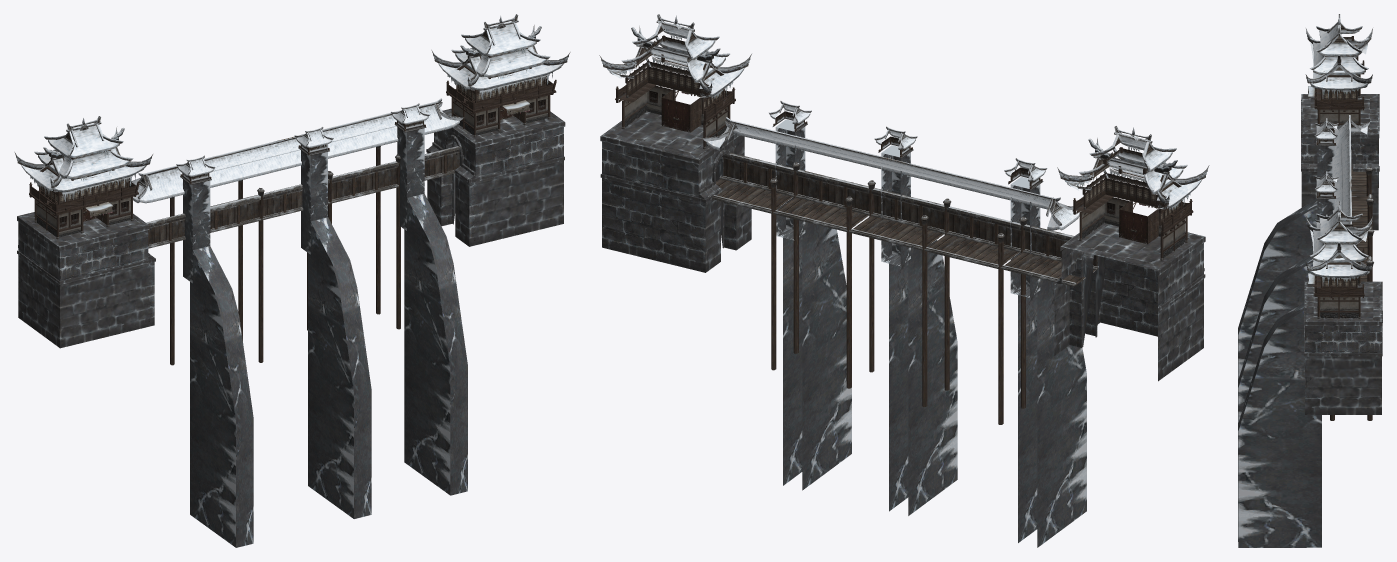
The model's file is xs_daba_1.FBX.
3 views of the same model, side by side, from view 1: azimuth 30°, elevation 25°; view 2: azimuth 150°, elevation 25°; view 3: azimuth 270°, elevation 25° (orthographic). The views are drawn at different scales.
Parts seen in each view (by area): view 1: xs_daba_1; view 2: xs_daba_1; view 3: xs_daba_1.
Part boxes in pixels (left/top/right/bottom): xs_daba_1: left=14, top=14, right=570, bottom=547; xs_daba_1: left=599, top=14, right=1209, bottom=547; xs_daba_1: left=1238, top=14, right=1382, bottom=547.
Bounding box in the file's own units: 2539 × 1933 × 664.
